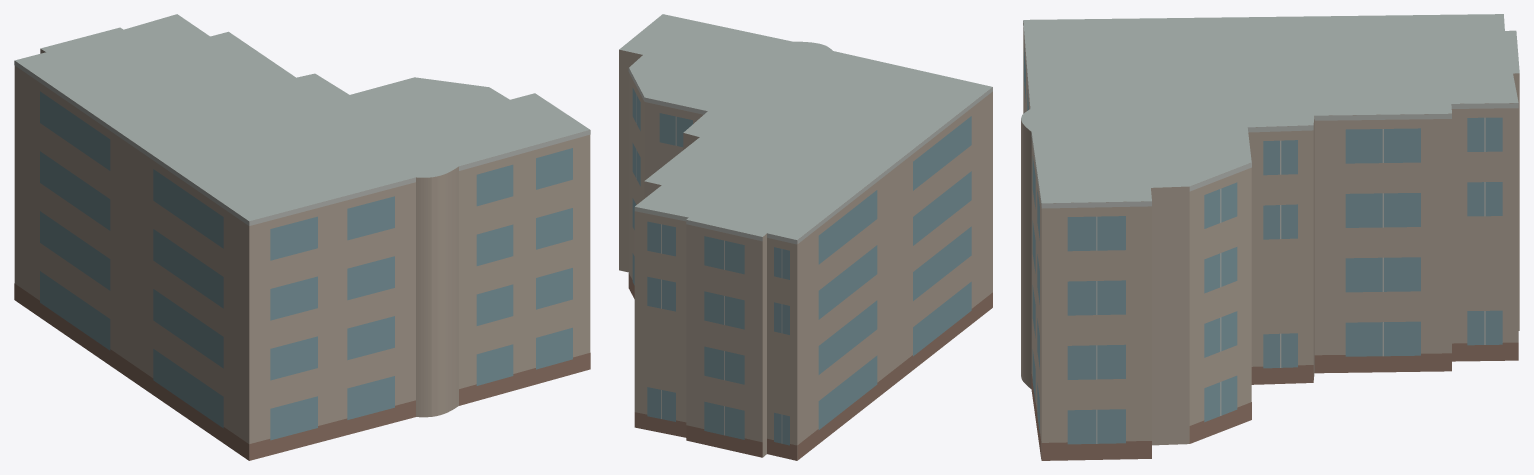
The model's file is survey-upis-32656595.glb.
3 renders of one model, left to right at view 1: azimuth 30°, elevation 25°; view 2: azimuth 150°, elevation 25°; view 3: azimuth 270°, elevation 25°, orthographic. The views are drawn at different scales.
Visible parts, largest first — view 1: survey-upis-32656595.tmp; view 2: survey-upis-32656595.tmp; view 3: survey-upis-32656595.tmp.
Boxes of the visible parts, x1,y1,x2,y2 form: survey-upis-32656595.tmp: (14,14,590,460); survey-upis-32656595.tmp: (619,14,992,460); survey-upis-32656595.tmp: (1021,14,1519,460).
Size of the model in its own units: 19.25 by 12.2 by 21.42.
